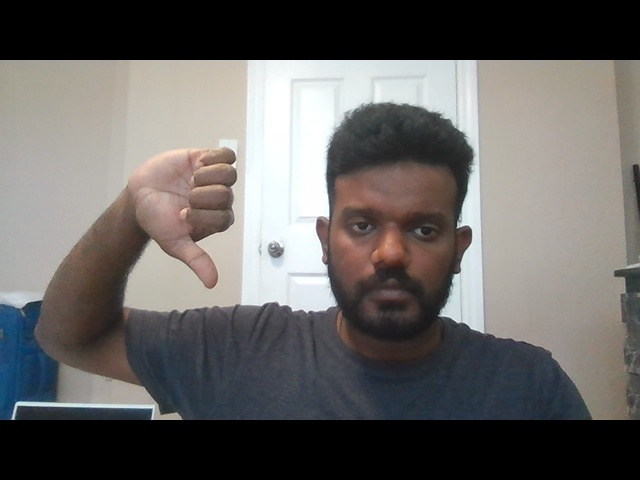no: (128, 143, 242, 293)
